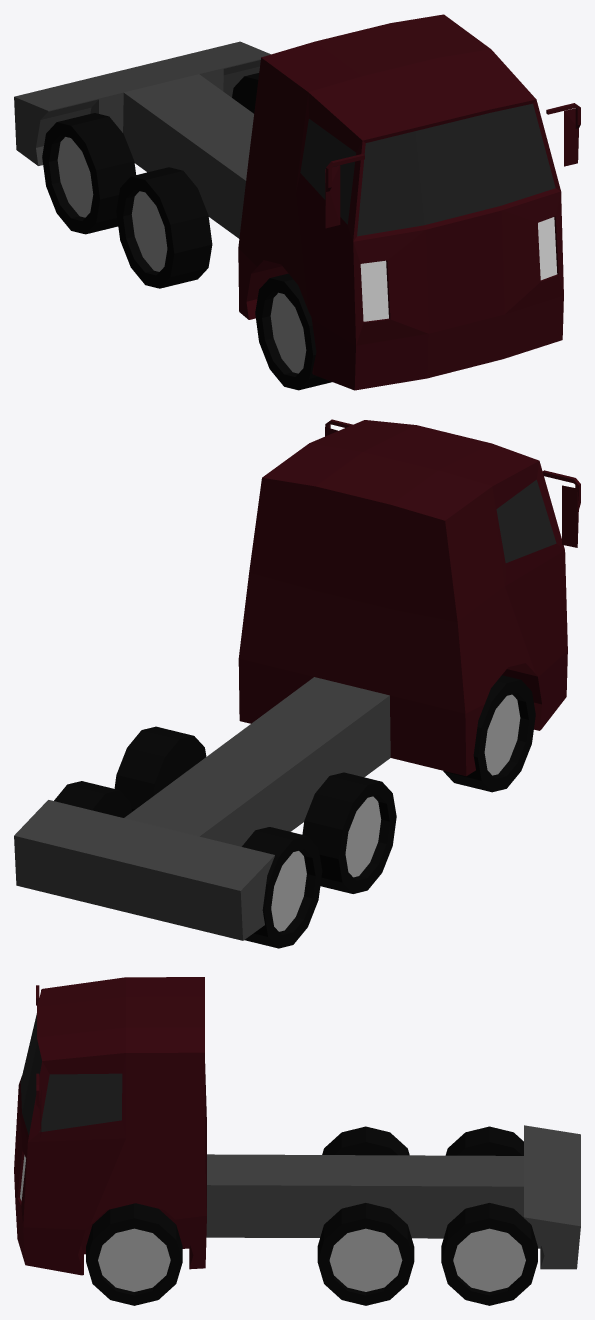
Rendered from Truck2.fbx.
3 renders of one model, top to bottom at view 1: azimuth 30°, elevation 25°; view 2: azimuth 150°, elevation 25°; view 3: azimuth 270°, elevation 25°, orthographic. The views are drawn at different scales.
Visible parts, largest first — view 1: Cube, Cylinder, Cylinder.001, Cylinder.002; view 2: Cube, Cylinder, Cylinder.001, Cylinder.002; view 3: Cube, Cylinder, Cylinder.001, Cylinder.002.
Boxes of the visible parts, left/top/right/bottom form: Cube: left=14, top=14, right=580, bottom=390; Cylinder: left=116, top=167, right=212, bottom=288; Cylinder.001: left=42, top=73, right=259, bottom=234; Cylinder.002: left=255, top=273, right=331, bottom=390; Cube: left=14, top=419, right=580, bottom=940; Cylinder: left=114, top=726, right=396, bottom=893; Cylinder.001: left=54, top=781, right=322, bottom=948; Cylinder.002: left=443, top=675, right=535, bottom=792; Cube: left=14, top=977, right=580, bottom=1275; Cylinder: left=317, top=1126, right=414, bottom=1305; Cylinder.001: left=441, top=1126, right=537, bottom=1305; Cylinder.002: left=86, top=1203, right=182, bottom=1305.
Bounding box in the file's own units: 1013 × 2358 × 1134.
